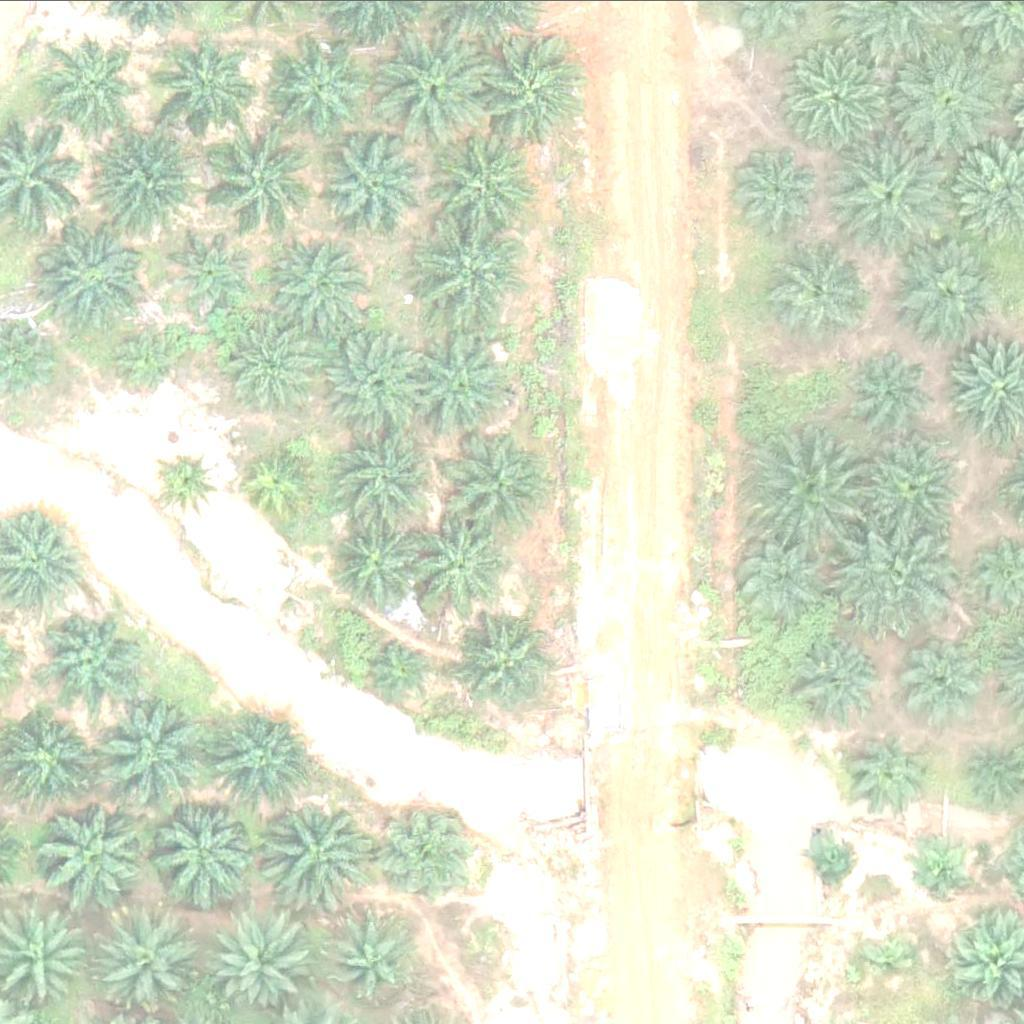Kelapa_Sawit: (783, 44, 896, 157), (477, 30, 590, 143), (40, 223, 153, 336), (318, 325, 431, 438), (406, 328, 519, 441), (445, 426, 558, 539), (91, 697, 204, 810), (35, 796, 148, 909), (146, 792, 259, 905), (889, 46, 1003, 158), (198, 119, 312, 231), (415, 221, 529, 333), (832, 133, 945, 245), (761, 431, 874, 543), (840, 521, 953, 633), (377, 32, 490, 144), (434, 131, 547, 243), (95, 128, 208, 240), (258, 794, 371, 906), (726, 139, 827, 239), (899, 244, 1000, 344), (859, 437, 960, 537), (726, 531, 827, 631), (161, 38, 262, 138), (323, 136, 424, 236), (274, 236, 375, 336), (340, 428, 441, 528), (331, 513, 432, 613), (212, 711, 313, 811), (457, 611, 558, 711), (385, 803, 486, 903), (104, 911, 205, 1011), (212, 915, 313, 1015), (776, 240, 876, 340), (265, 38, 365, 138), (222, 313, 322, 413), (411, 518, 511, 618), (42, 605, 142, 705), (168, 225, 256, 313), (9, 712, 97, 800), (797, 638, 886, 725), (850, 344, 938, 431), (896, 638, 984, 725), (844, 728, 932, 815), (57, 39, 145, 126), (330, 910, 418, 997), (107, 321, 182, 396), (245, 445, 320, 520), (369, 630, 444, 705), (158, 448, 221, 511), (913, 843, 964, 893), (803, 836, 853, 886), (972, 745, 1022, 795), (866, 933, 916, 983)
